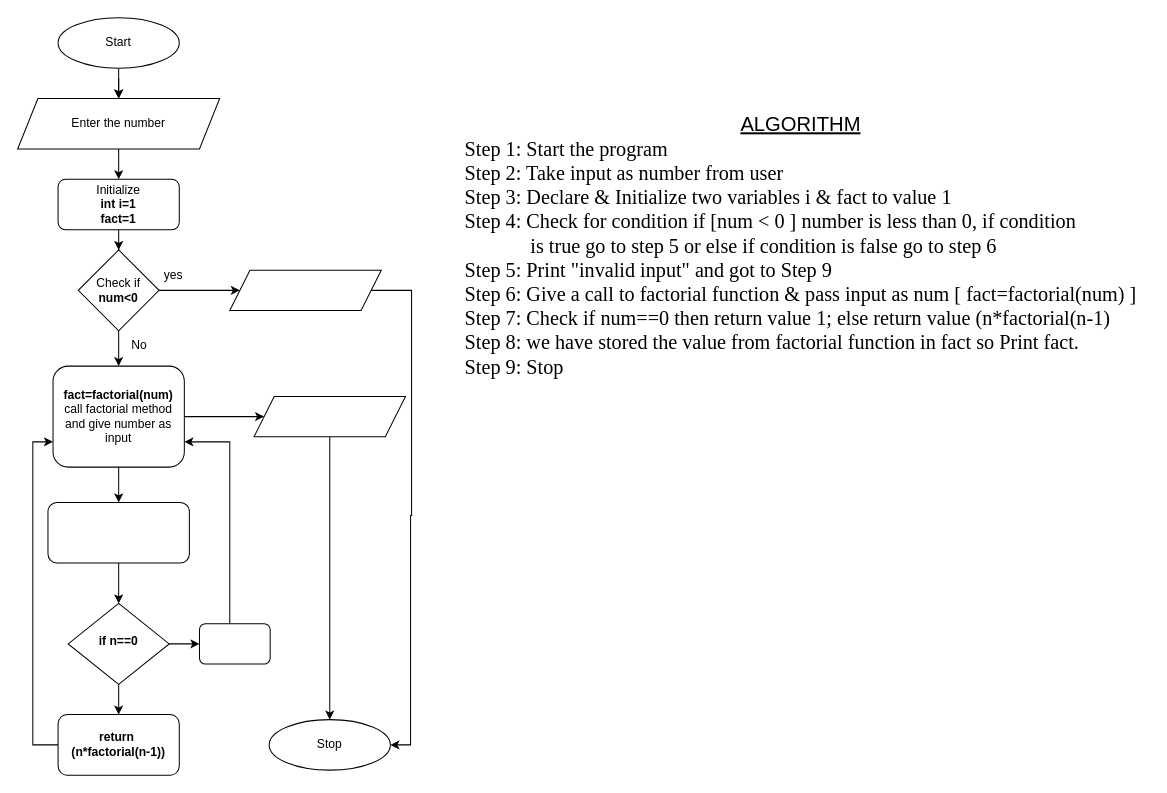
Image size: 1167x793. Some labels were removed from this diagram. The centre of each missing label's shape, as x and y in pixels:
Invalid Input: the point at 305,290
Print fact: the point at 329,416
return 1;: the point at 234,643
static int factorial( int n): the point at 118,532
